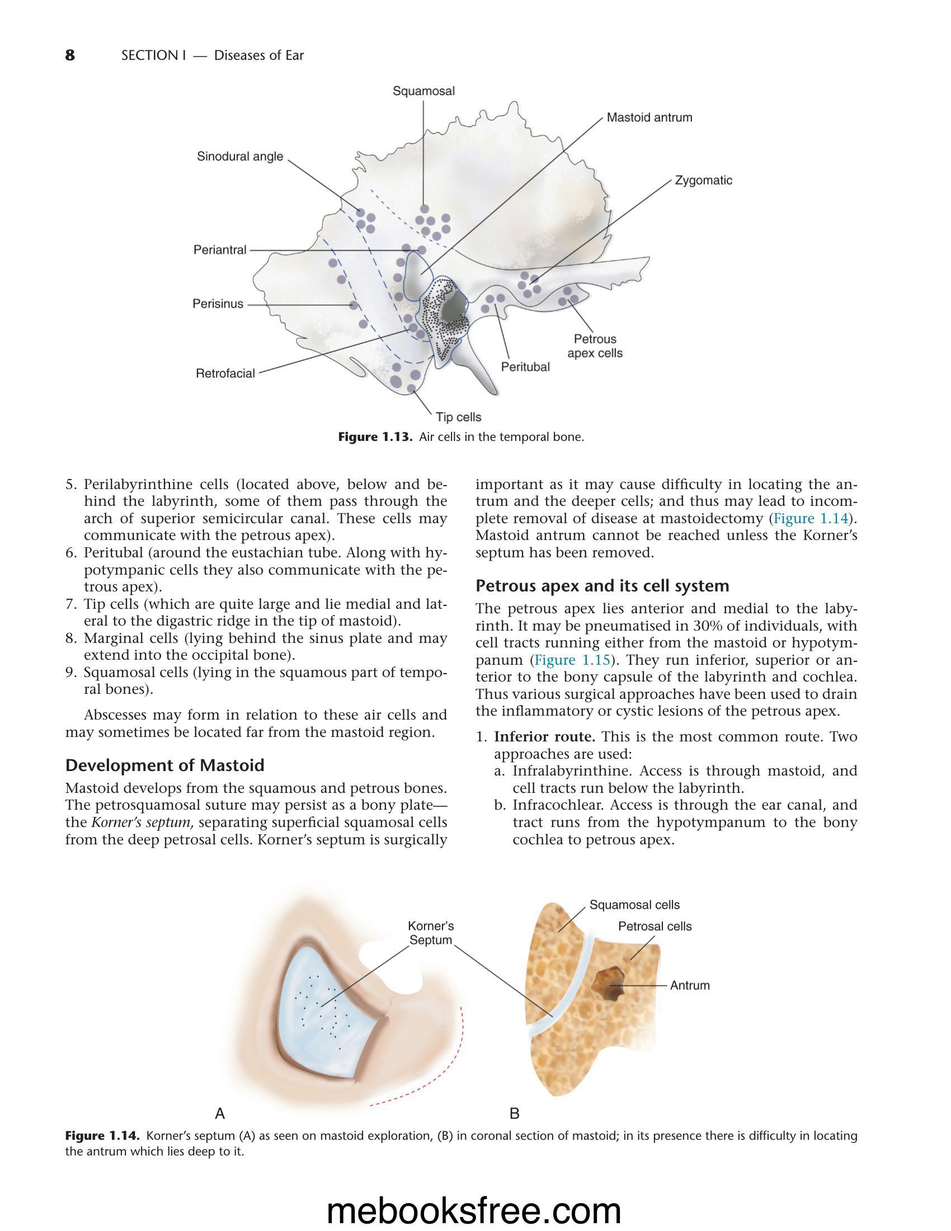caption: (65, 1130, 859, 1160), (337, 431, 585, 445), (509, 1105, 521, 1120), (214, 1106, 226, 1120)
header: (121, 49, 305, 61)
image: (171, 74, 753, 428), (198, 868, 733, 1126)
list: (63, 476, 448, 697), (475, 729, 860, 851), (493, 764, 859, 850)
sub-section-heading: (475, 577, 730, 597), (65, 757, 264, 776)
text: (473, 600, 858, 722), (474, 477, 858, 562), (64, 782, 448, 850), (63, 707, 446, 742)
